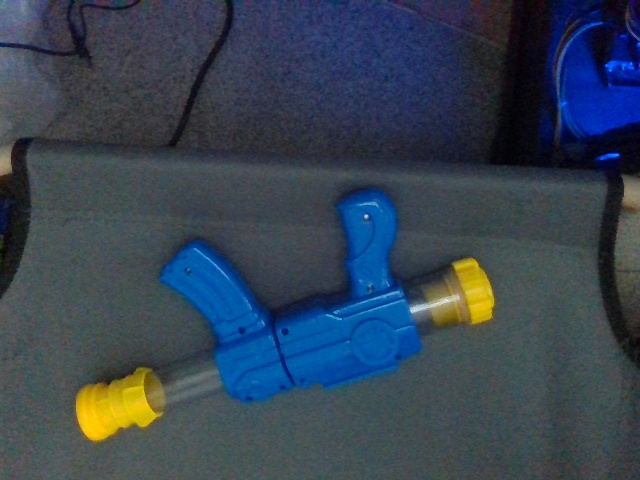screw hole: (184, 268, 192, 276), (238, 327, 246, 335), (281, 327, 289, 335), (363, 214, 371, 222), (367, 284, 374, 293), (394, 353, 402, 360), (279, 384, 287, 390), (299, 377, 306, 383), (247, 396, 252, 401)
toy: (74, 189, 496, 445)
